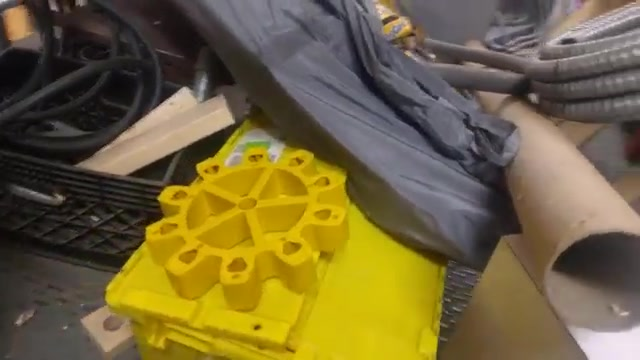gear: (137, 136, 354, 315)
